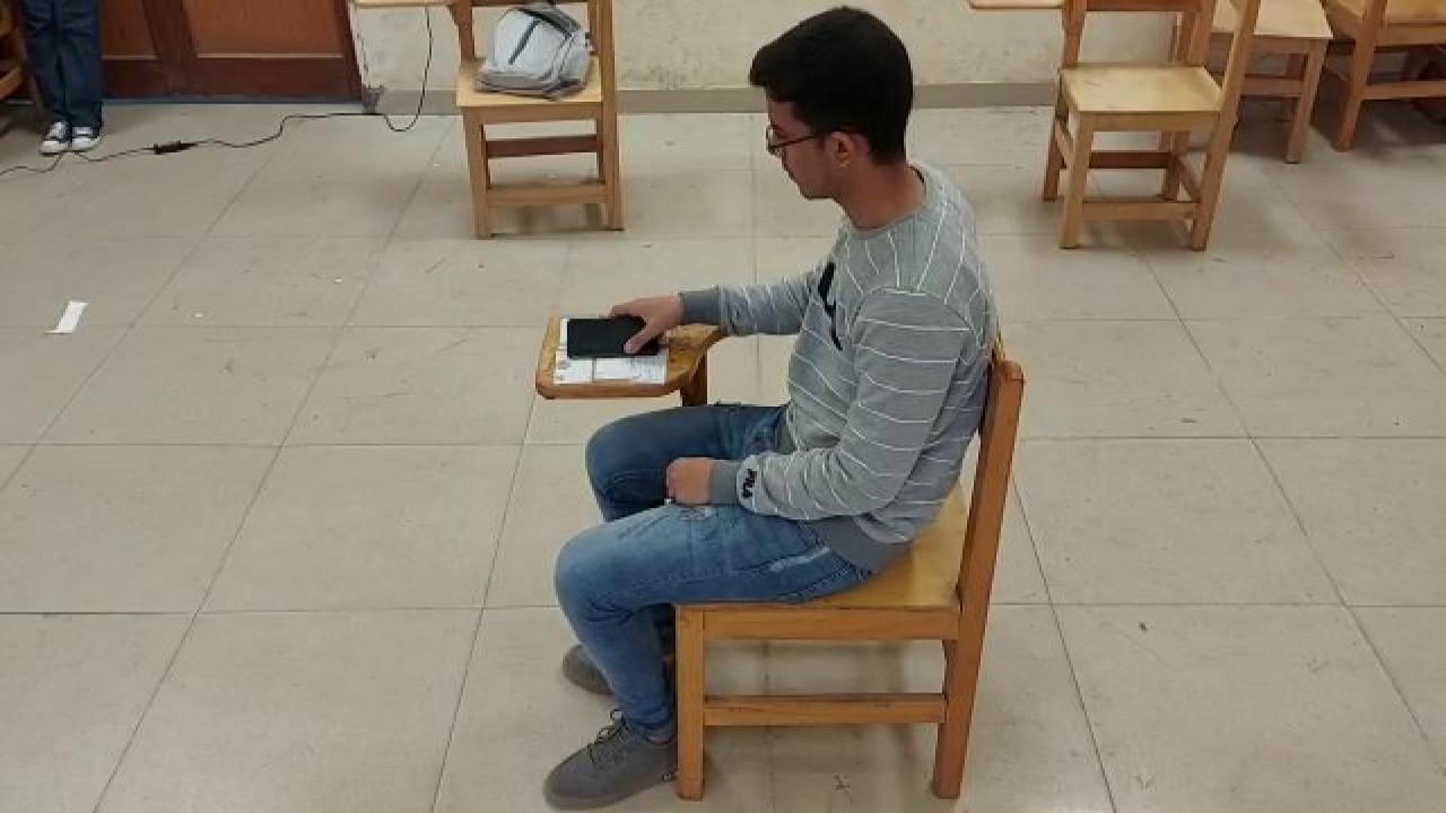phone: (565, 314, 669, 353)
